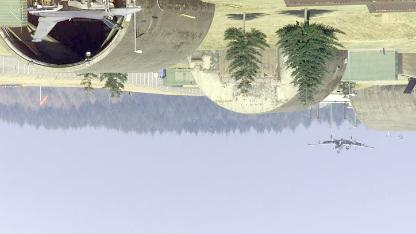A10: (308, 136, 376, 154)
F14: (26, 2, 144, 42)
